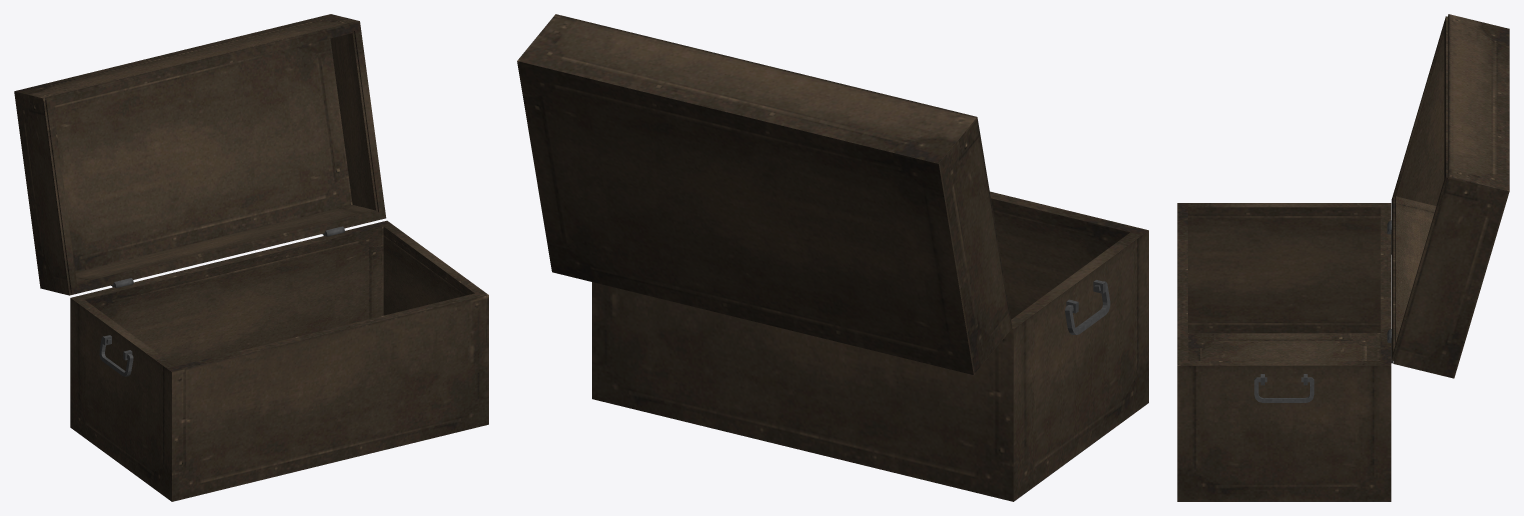
File: wooden_crate_2_c.obj
3 renders of one model, left to right at view 1: azimuth 30°, elevation 25°; view 2: azimuth 150°, elevation 25°; view 3: azimuth 270°, elevation 25°, orthographic. The views are drawn at different scales.
Parts seen in each view (by area): view 1: wooden_crate_2_c, wooden_crate_2_c_lid; view 2: wooden_crate_2_c_lid, wooden_crate_2_c; view 3: wooden_crate_2_c, wooden_crate_2_c_lid.
Part boxes in pixels (bbox=[...]): wooden_crate_2_c: bbox=[70, 220, 488, 501]; wooden_crate_2_c_lid: bbox=[14, 14, 386, 295]; wooden_crate_2_c_lid: bbox=[517, 14, 1012, 374]; wooden_crate_2_c: bbox=[592, 191, 1148, 501]; wooden_crate_2_c: bbox=[1177, 203, 1392, 501]; wooden_crate_2_c_lid: bbox=[1391, 14, 1509, 378].
Bounding box in the file's own units: 0.9492 × 0.8393 × 0.7768.
